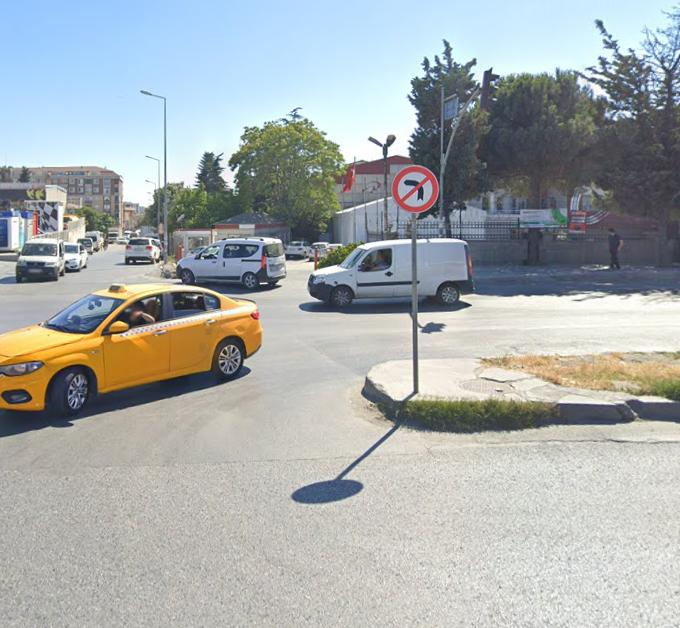leftturnsareforbidden: (393, 165, 439, 211)
